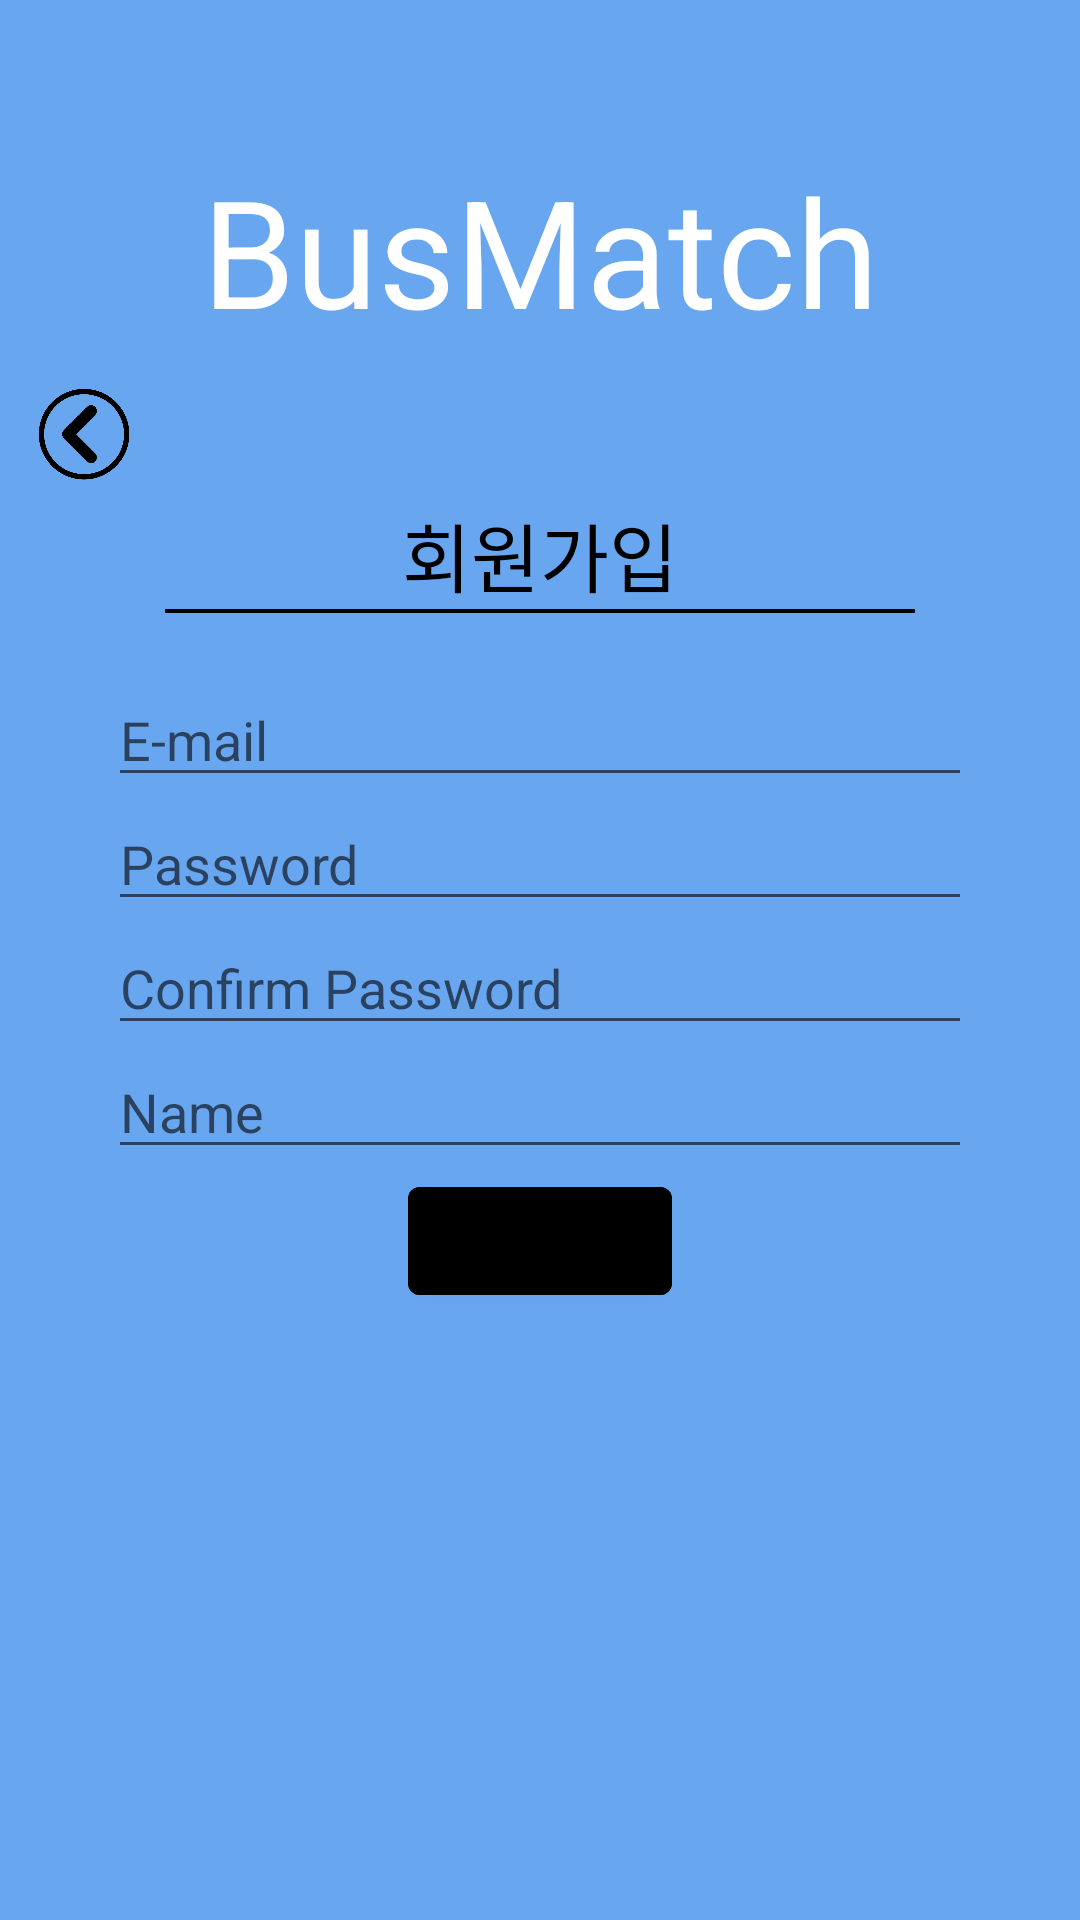

Where to tap for icons on this 1080w x 1920h app screen, as point (x, y):
back: point (84, 434)
